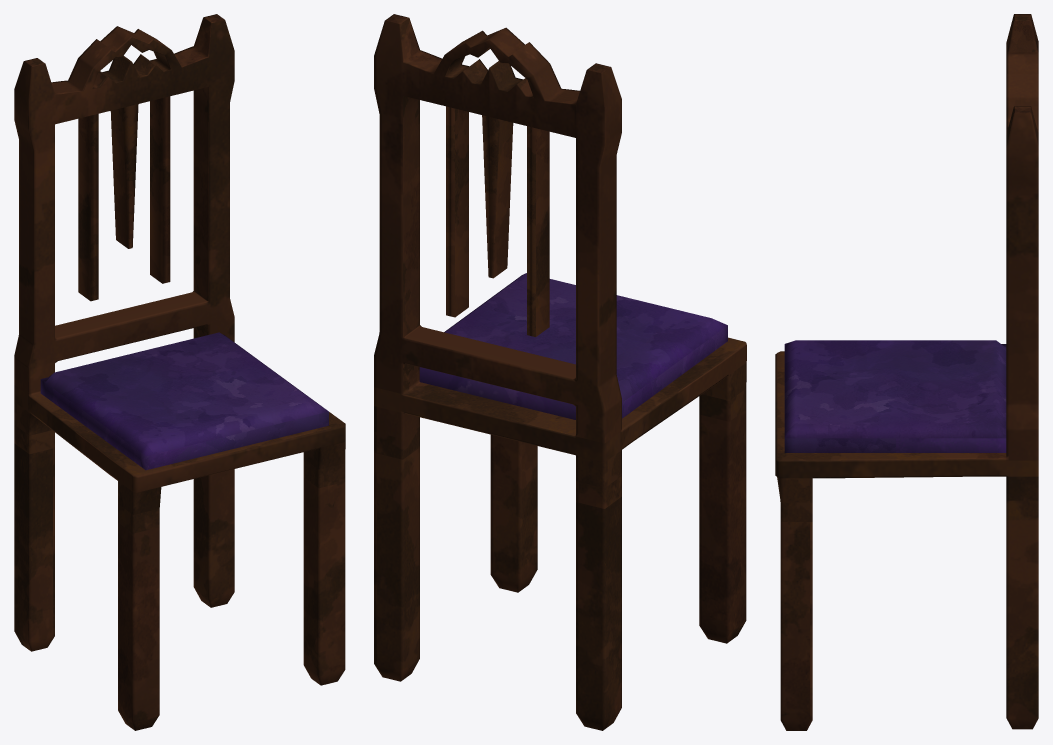
File: chair.fbx
The picture shows the model from 3 angles, left to right: view 1: azimuth 30°, elevation 25°; view 2: azimuth 150°, elevation 25°; view 3: azimuth 270°, elevation 25°; orthographic projection. The views are drawn at different scales.
Parts seen in each view (by area): view 1: tree, cushion; view 2: tree, cushion; view 3: tree, cushion.
Boxes of the visible parts, left/top/right/bottom form: tree: left=14, top=14, right=345, bottom=730; cushion: left=40, top=332, right=328, bottom=470; tree: left=374, top=14, right=746, bottom=730; cushion: left=419, top=273, right=727, bottom=419; tree: left=775, top=14, right=1038, bottom=730; cushion: left=784, top=340, right=1006, bottom=452.
Bounding box in the file's own units: 4.69 × 12.52 × 4.78.
1 material, 1 textured.
